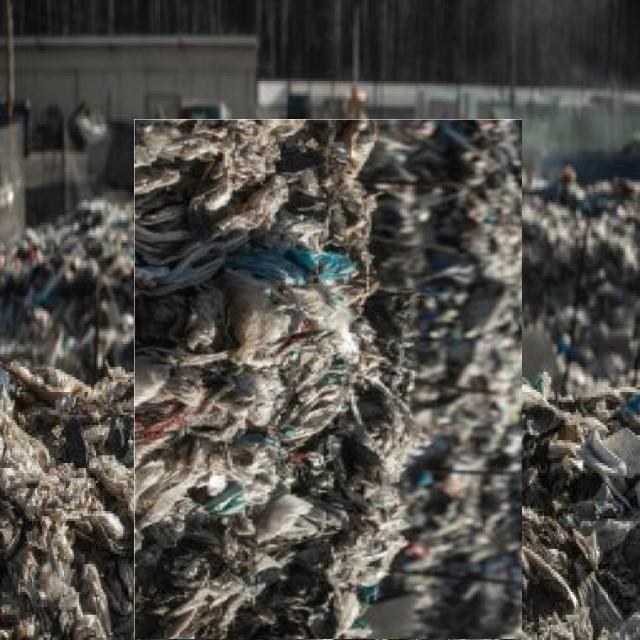Anorganik: (83, 169, 574, 639)
